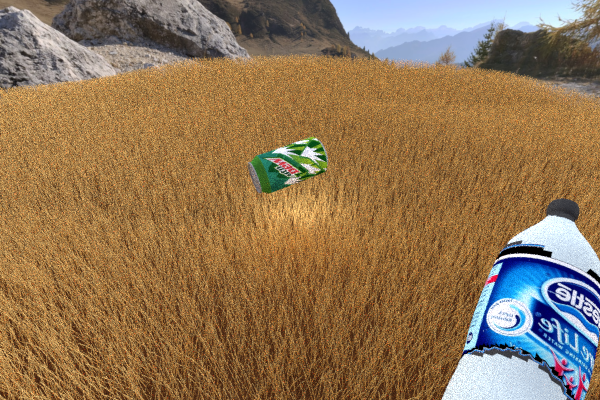Plastic Bottle: (421, 198, 600, 400), (247, 136, 328, 193), (326, 98, 366, 129)
